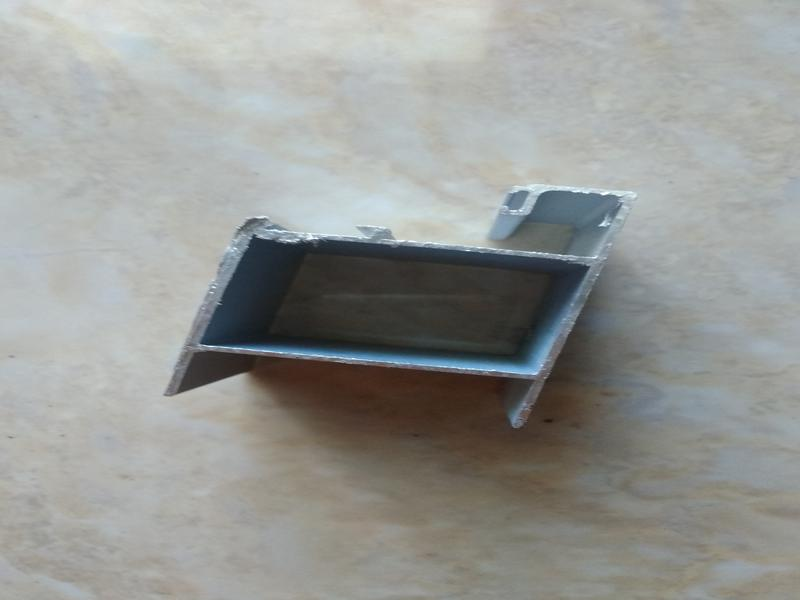Aluminium_2: (149, 145, 668, 482)
